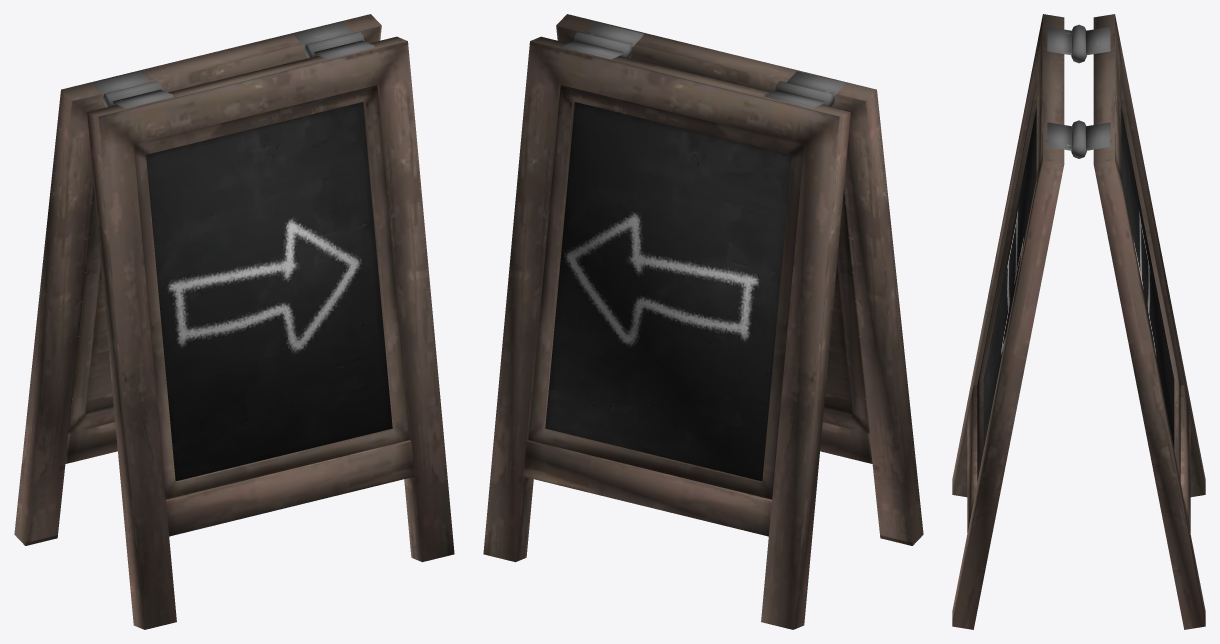
The picture shows the model from 3 angles, left to right: view 1: azimuth 30°, elevation 25°; view 2: azimuth 150°, elevation 25°; view 3: azimuth 270°, elevation 25°; orthographic projection. The views are drawn at different scales.
Visible parts, largest first — view 1: body0_model0_lod0_mesh0, body0_model0_lod0_mesh1; view 2: body0_model0_lod0_mesh0, body0_model0_lod0_mesh1; view 3: body0_model0_lod0_mesh0, body0_model0_lod0_mesh1.
Part boxes in pixels (bbox=[...]): body0_model0_lod0_mesh0: bbox=[14, 14, 454, 629]; body0_model0_lod0_mesh1: bbox=[146, 102, 392, 481]; body0_model0_lod0_mesh0: bbox=[483, 14, 923, 629]; body0_model0_lod0_mesh1: bbox=[545, 102, 791, 481]; body0_model0_lod0_mesh0: bbox=[952, 14, 1205, 629]; body0_model0_lod0_mesh1: bbox=[983, 108, 1174, 448].
Size of the model in its own units: 48 by 71.79 by 34.96.
Materials: 2 (2 with a texture image).
